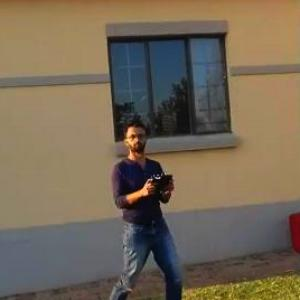follow: (95, 116, 192, 299)
